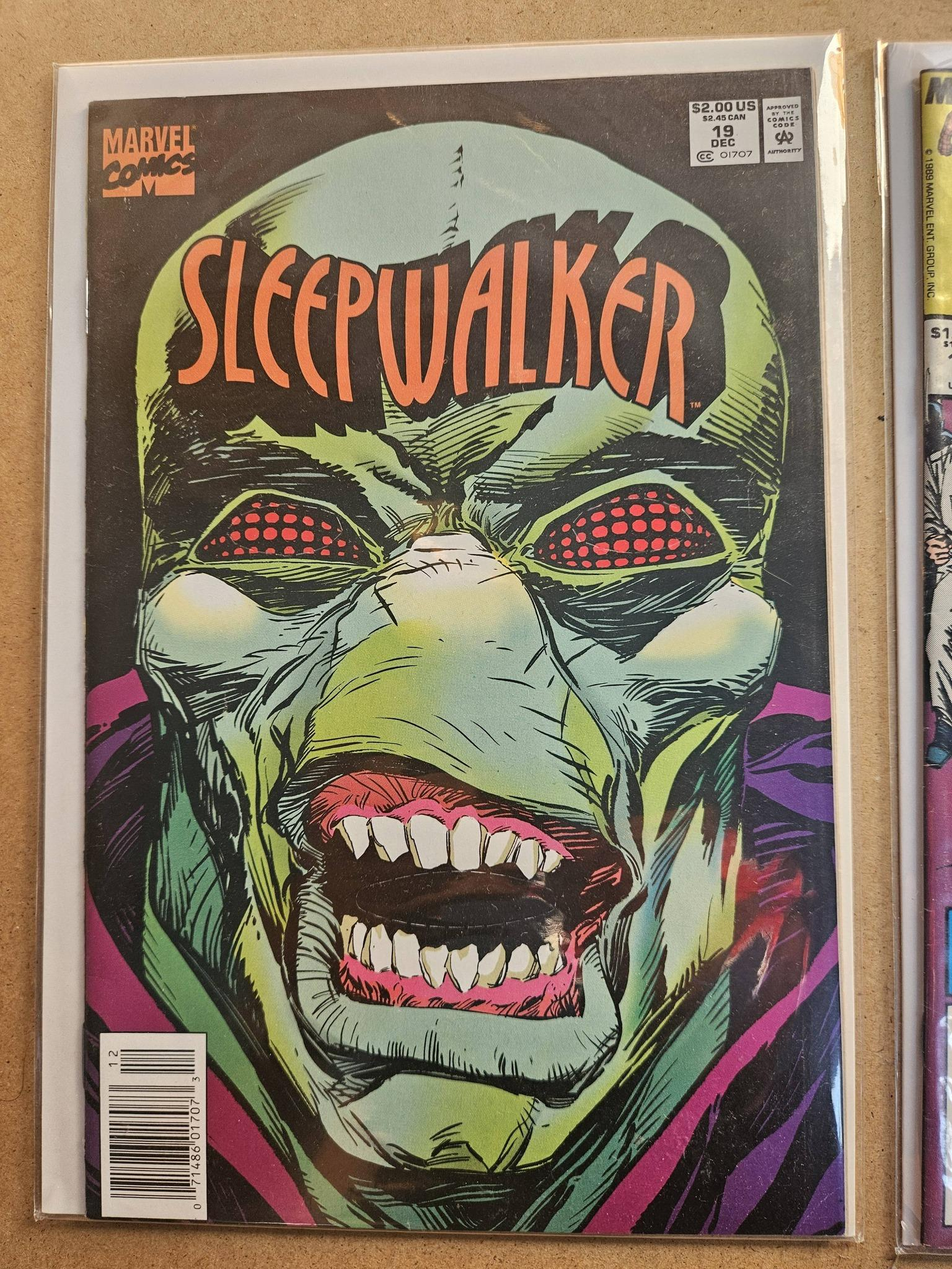comic: (59, 66, 847, 1253)
